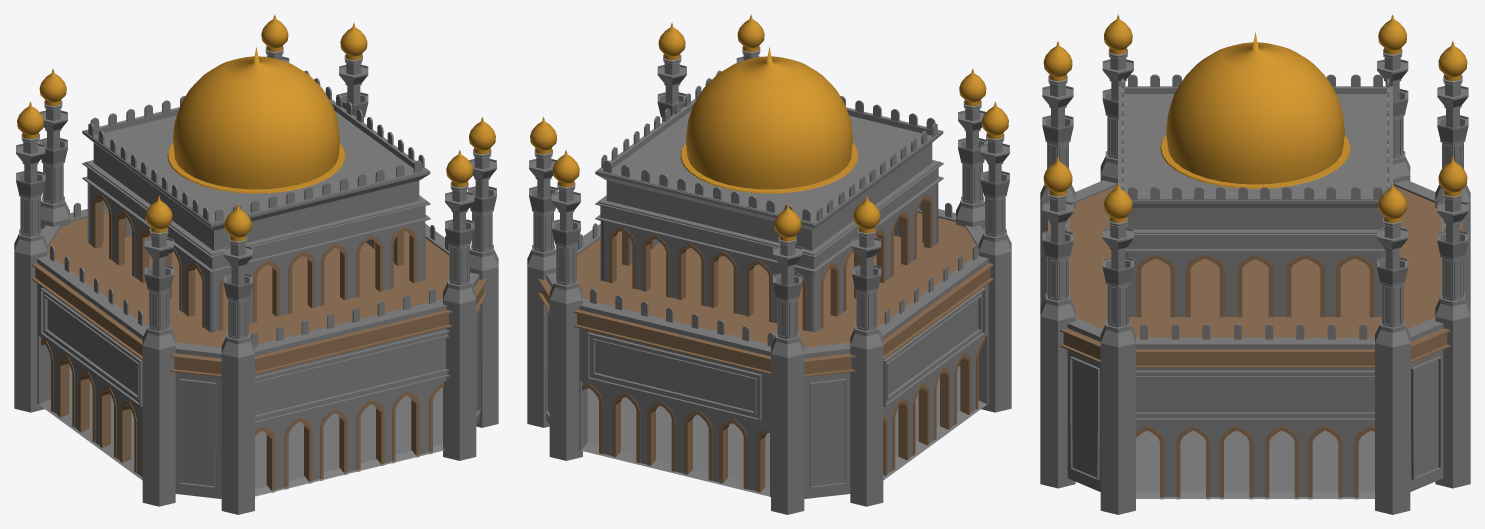
File: SM_gouvernmental_building_arabian.fbx
3 renders of one model, left to right at view 1: azimuth 30°, elevation 25°; view 2: azimuth 150°, elevation 25°; view 3: azimuth 270°, elevation 25°, orthographic. The views are drawn at different scales.
Parts seen in each view (by area): view 1: Object117; view 2: Object117; view 3: Object117.
Part boxes in pixels (x1,y1,x2,y2): Object117: [14, 14, 498, 514]; Object117: [527, 14, 1011, 514]; Object117: [1040, 14, 1470, 514].
Size of the model in its own units: 924 by 906 by 907.
